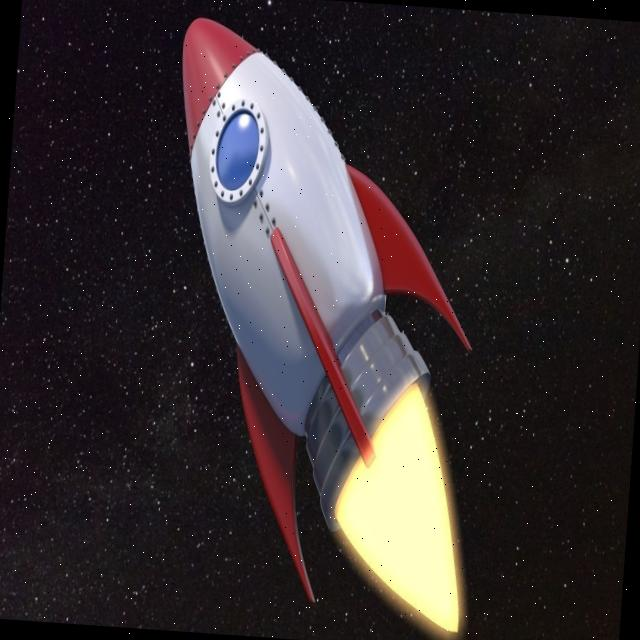rocket: (173, 0, 473, 618)
